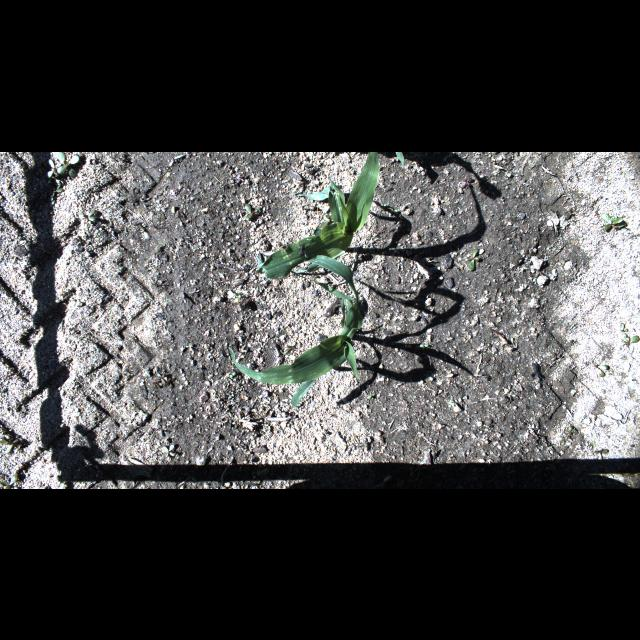crop: (228, 254, 362, 406), (254, 151, 380, 277), (396, 151, 404, 167)
weed: (56, 152, 80, 178), (600, 212, 628, 230), (44, 159, 61, 179), (465, 248, 479, 270), (1, 438, 20, 454), (558, 426, 578, 440), (245, 203, 259, 221), (2, 474, 18, 488), (592, 364, 610, 376), (50, 182, 64, 196), (77, 210, 96, 220), (621, 336, 639, 346), (164, 444, 176, 458), (284, 341, 296, 353), (155, 373, 167, 385), (595, 450, 609, 460), (620, 322, 628, 336), (366, 392, 376, 400), (418, 342, 429, 348), (228, 370, 236, 378), (232, 292, 242, 298), (590, 439, 596, 448), (381, 203, 387, 205)
